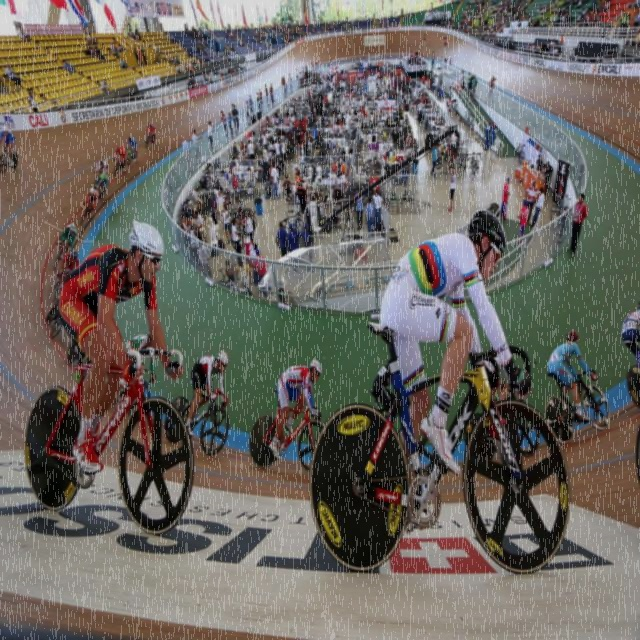pessoa: (380, 209, 532, 476), (54, 217, 184, 477), (295, 72, 444, 158), (418, 0, 640, 30), (268, 358, 321, 462), (546, 324, 598, 424), (184, 348, 228, 438), (185, 24, 218, 90), (297, 15, 390, 38), (223, 22, 287, 52), (564, 190, 588, 264), (452, 27, 514, 51), (54, 248, 80, 300), (620, 297, 640, 358), (525, 33, 565, 63), (271, 97, 296, 141), (153, 40, 185, 74), (251, 248, 272, 298), (340, 58, 404, 73), (56, 222, 77, 262), (522, 178, 540, 224), (535, 152, 554, 194), (164, 162, 186, 198), (230, 216, 244, 269), (0, 125, 16, 169), (300, 222, 314, 272), (530, 186, 546, 228), (373, 188, 388, 230), (236, 259, 253, 295), (216, 61, 245, 81), (308, 56, 342, 73), (516, 198, 528, 246), (286, 222, 304, 253), (220, 204, 233, 246), (276, 220, 290, 258), (277, 278, 290, 318), (354, 188, 366, 231), (364, 196, 376, 239), (82, 187, 99, 217), (241, 210, 255, 246), (194, 210, 208, 245), (282, 173, 294, 213), (446, 164, 456, 212), (228, 102, 242, 136), (190, 129, 203, 165), (4, 61, 23, 85), (389, 12, 419, 27), (501, 175, 510, 222), (270, 162, 281, 200), (296, 182, 308, 216), (112, 145, 126, 173), (94, 157, 108, 185), (182, 135, 192, 173), (445, 87, 458, 116), (280, 72, 294, 98), (15, 22, 30, 46), (406, 48, 426, 66), (206, 120, 216, 154), (126, 22, 143, 42), (126, 134, 137, 164), (178, 202, 193, 224), (230, 140, 246, 160), (248, 237, 259, 265), (218, 108, 228, 138), (226, 110, 236, 140), (215, 189, 225, 219), (144, 120, 156, 144), (224, 258, 236, 282), (286, 18, 298, 42), (92, 42, 106, 62), (260, 155, 270, 183), (430, 144, 438, 178), (188, 223, 198, 250), (180, 216, 195, 234), (488, 74, 497, 104), (132, 43, 142, 69), (254, 92, 264, 118), (489, 122, 497, 154), (28, 90, 39, 113), (484, 120, 492, 151), (260, 130, 270, 154), (86, 36, 96, 59), (268, 80, 277, 105), (100, 76, 110, 98), (272, 138, 282, 160), (140, 42, 149, 66), (50, 290, 59, 314), (296, 130, 304, 156), (110, 40, 120, 60), (292, 166, 303, 184), (439, 50, 448, 72), (294, 63, 308, 77), (258, 114, 272, 128), (247, 139, 256, 160), (430, 47, 437, 74), (98, 171, 106, 194), (245, 100, 252, 126), (280, 136, 287, 162), (136, 44, 144, 66), (231, 172, 239, 194), (264, 82, 271, 106), (468, 74, 475, 98), (459, 68, 466, 92), (112, 42, 121, 58), (258, 88, 264, 112), (212, 172, 220, 190), (248, 94, 254, 117), (86, 31, 95, 46), (120, 56, 129, 70), (466, 71, 471, 94), (330, 160, 338, 174), (472, 74, 477, 96), (166, 2, 173, 16), (149, 0, 156, 14)
